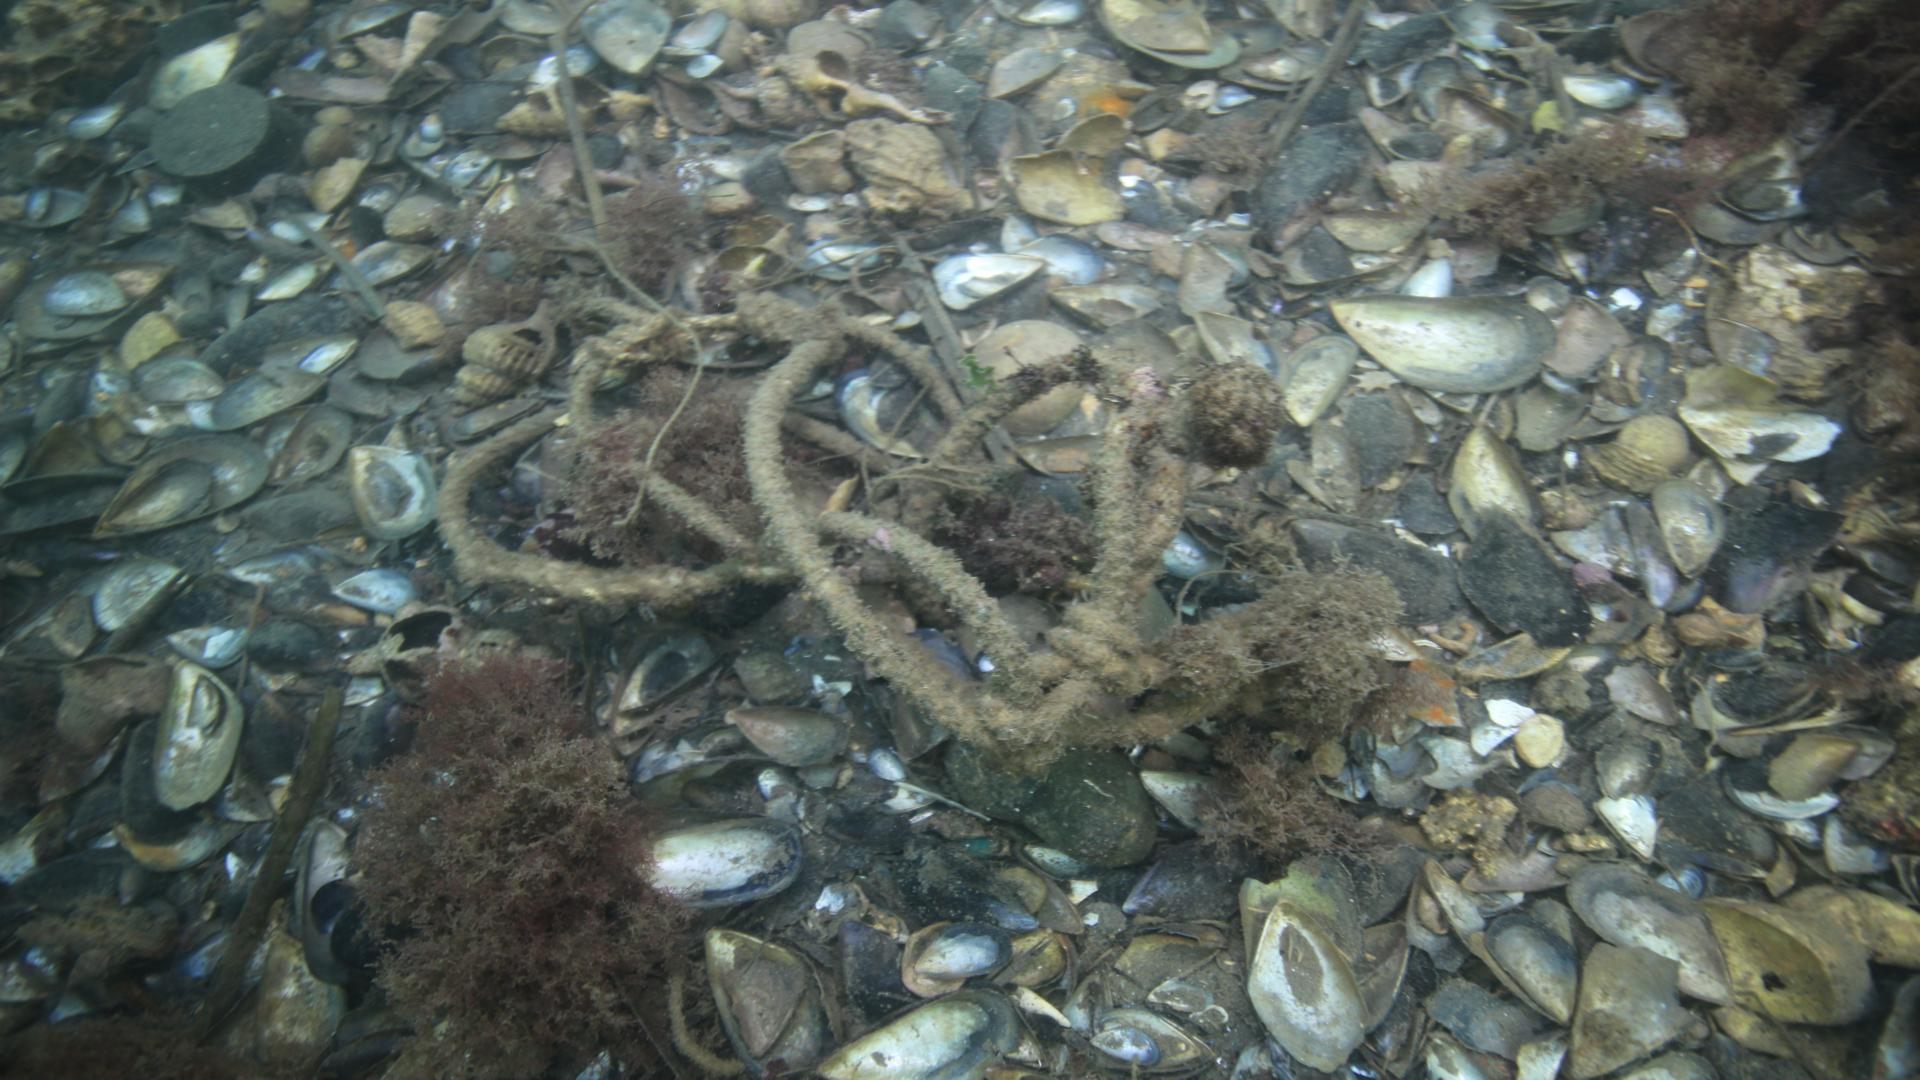bundle of ropes: (433, 287, 1193, 778)
